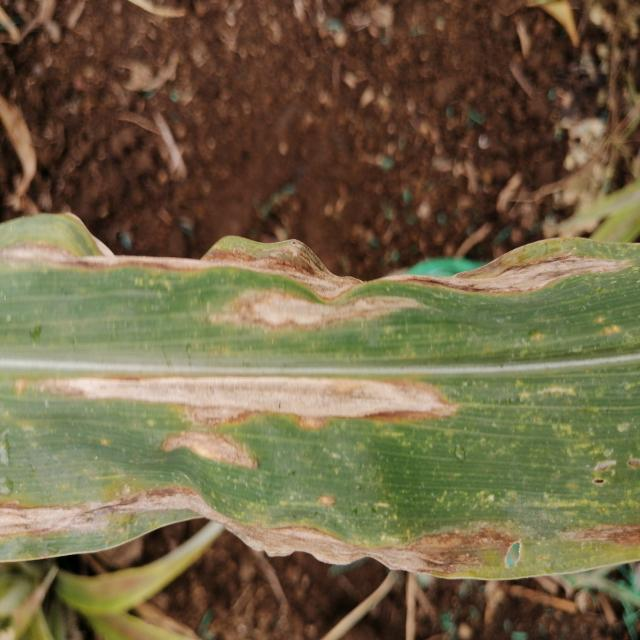Corn_Leaf_Blight: (0, 210, 640, 581)
